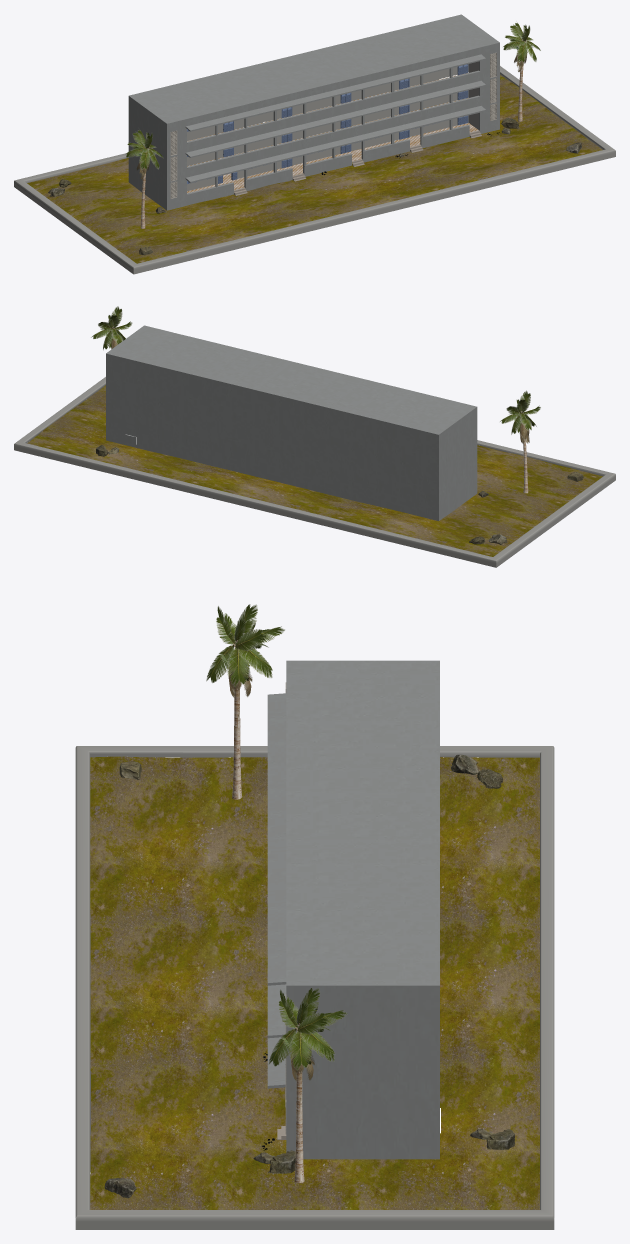
File: prison_model.glb
The picture shows the model from 3 angles, top to bottom: view 1: azimuth 30°, elevation 25°; view 2: azimuth 150°, elevation 25°; view 3: azimuth 270°, elevation 25°; orthographic projection. The views are drawn at different scales.
Visible parts, largest first — view 1: Gebaeude, pCube1, Object_4, Object_4.001; view 2: Gebaeude, pCube1, Object_4.001, Object_4; view 3: pCube1, Gebaeude, Object_4.001, Object_4, Object_5, Object_5.001.
Boxes of the visible parts, bbox=[...] form: Gebaeude: bbox=[128, 14, 499, 210]; pCube1: bbox=[14, 66, 615, 274]; Object_4: bbox=[503, 22, 540, 62]; Object_4.001: bbox=[125, 129, 163, 169]; Gebaeude: bbox=[106, 325, 477, 521]; pCube1: bbox=[14, 377, 615, 567]; Object_4.001: bbox=[500, 390, 540, 434]; Object_4: bbox=[91, 306, 132, 350]; pCube1: bbox=[75, 746, 554, 1229]; Gebaeude: bbox=[267, 660, 440, 1159]; Object_4.001: bbox=[206, 604, 284, 687]; Object_4: bbox=[268, 988, 347, 1070]; Object_5: bbox=[294, 1023, 304, 1182]; Object_5.001: bbox=[232, 640, 242, 799].
Bounding box in the file's own units: 61.16 × 12.82 × 26.27.
Materials: 14 (12 with a texture image).
